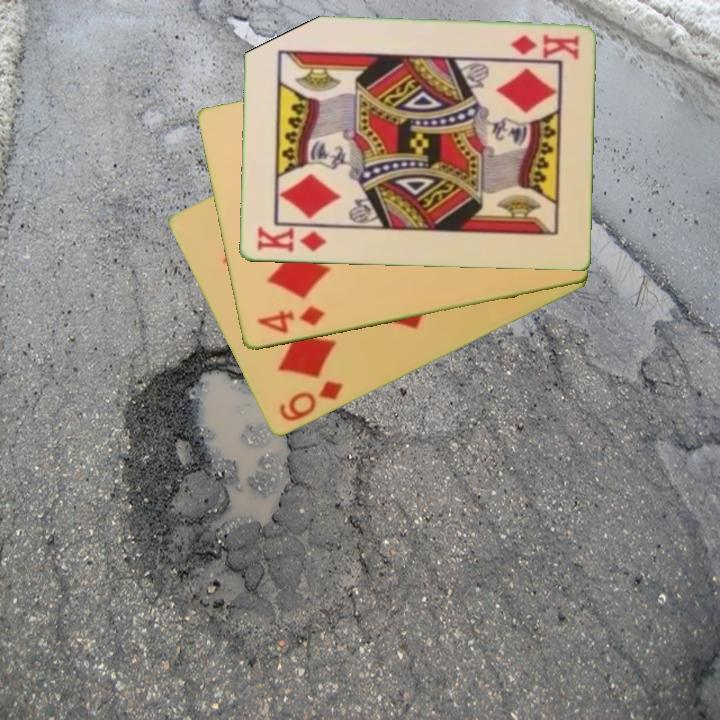4d: (253, 303, 328, 337)
6d: (275, 377, 346, 425)
Kd: (253, 224, 329, 256), (506, 31, 581, 61)
